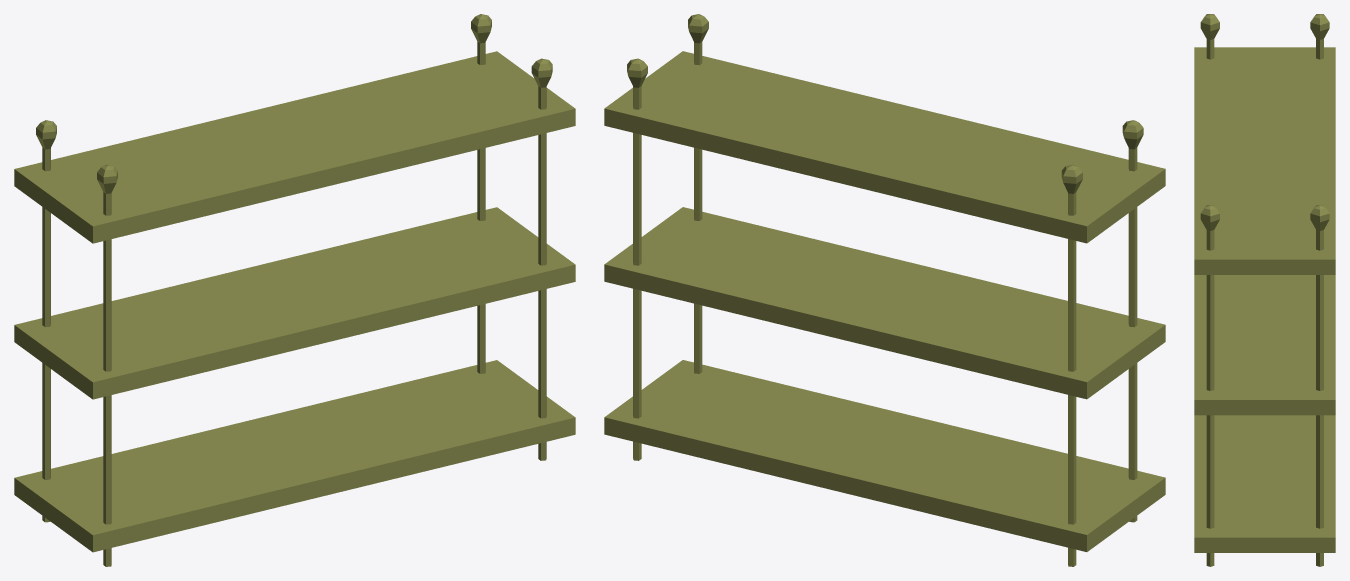
File: Shelf_Big.fbx
3 views of the same model, side by side, from view 1: azimuth 30°, elevation 25°; view 2: azimuth 150°, elevation 25°; view 3: azimuth 270°, elevation 25° (orthographic). The views are drawn at different scales.
Visible parts, largest first — view 1: Shelf_Big_pCube23; view 2: Shelf_Big_pCube23; view 3: Shelf_Big_pCube23.
Boxes of the visible parts, x1=… form: Shelf_Big_pCube23: x1=14, y1=14, x2=575, y2=566; Shelf_Big_pCube23: x1=604, y1=14, x2=1165, y2=566; Shelf_Big_pCube23: x1=1194, y1=14, x2=1335, y2=566.
Size of the model in its own units: 268 by 212 by 75.48.
